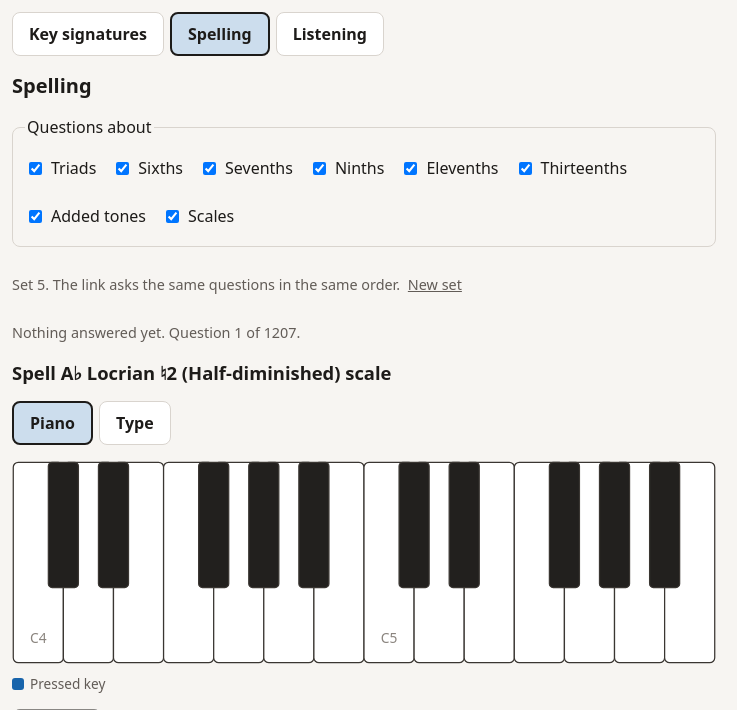
Test: Quiz: the spelling drill › scores a wrong answer and says what the notes are
Click the button "Type".
click(135, 423)  # box [99, 401, 171, 445]
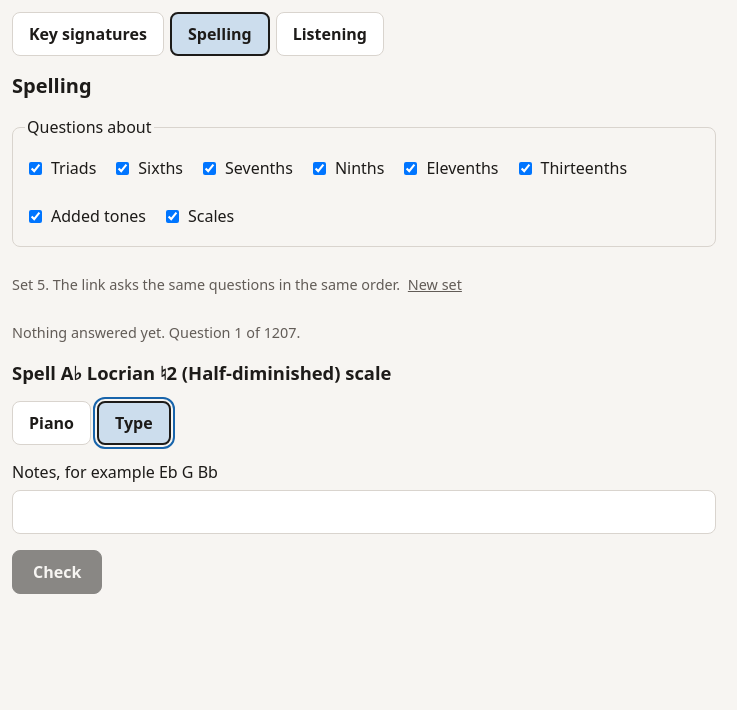
Type "C" into the field.
click(364, 512); type("C")  # box [12, 490, 716, 534]
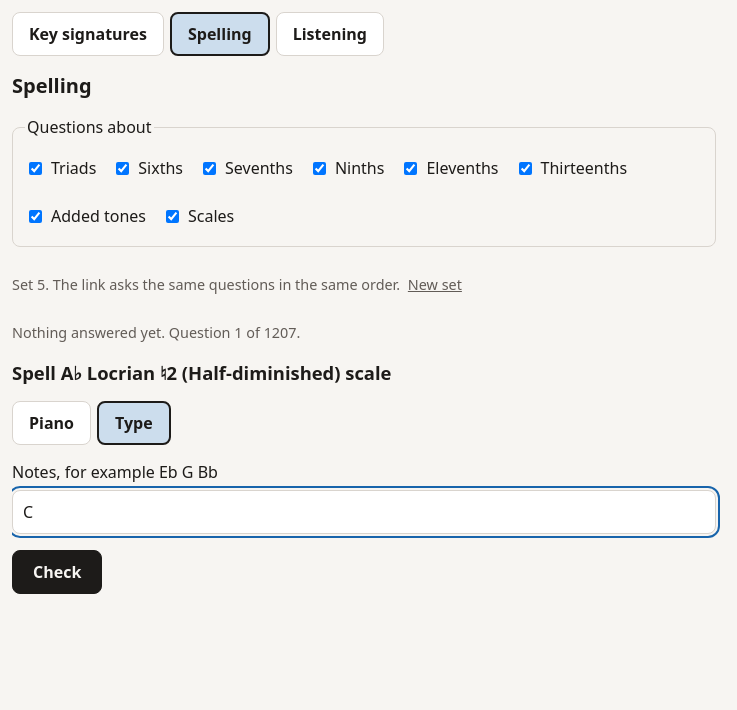
Click the button "Check".
click(57, 572)  # box [12, 550, 102, 594]
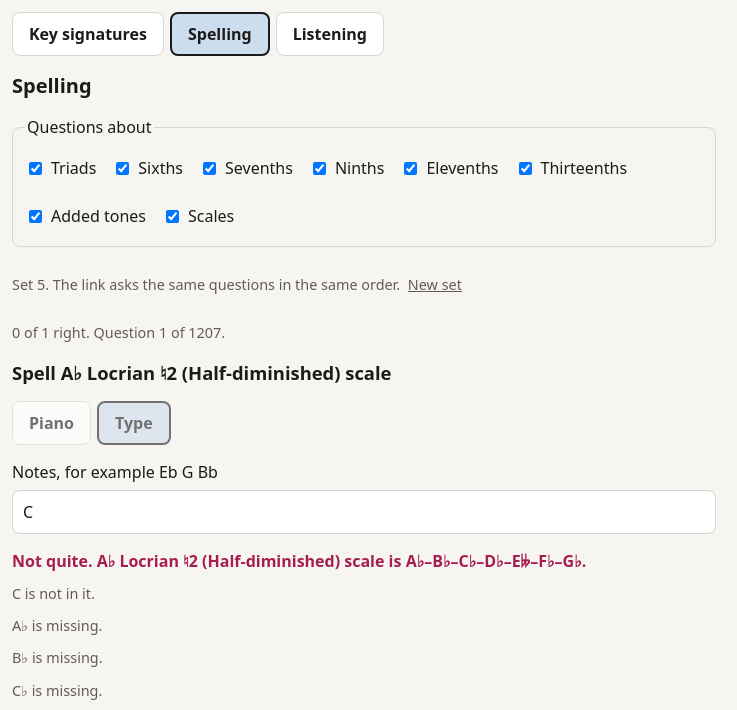
Expected: the message shows "Not quite.", [12, 550, 92, 572]
Expected: the text "0 of 1 right. Question 1 of 1207." is shown, [12, 323, 225, 342]
